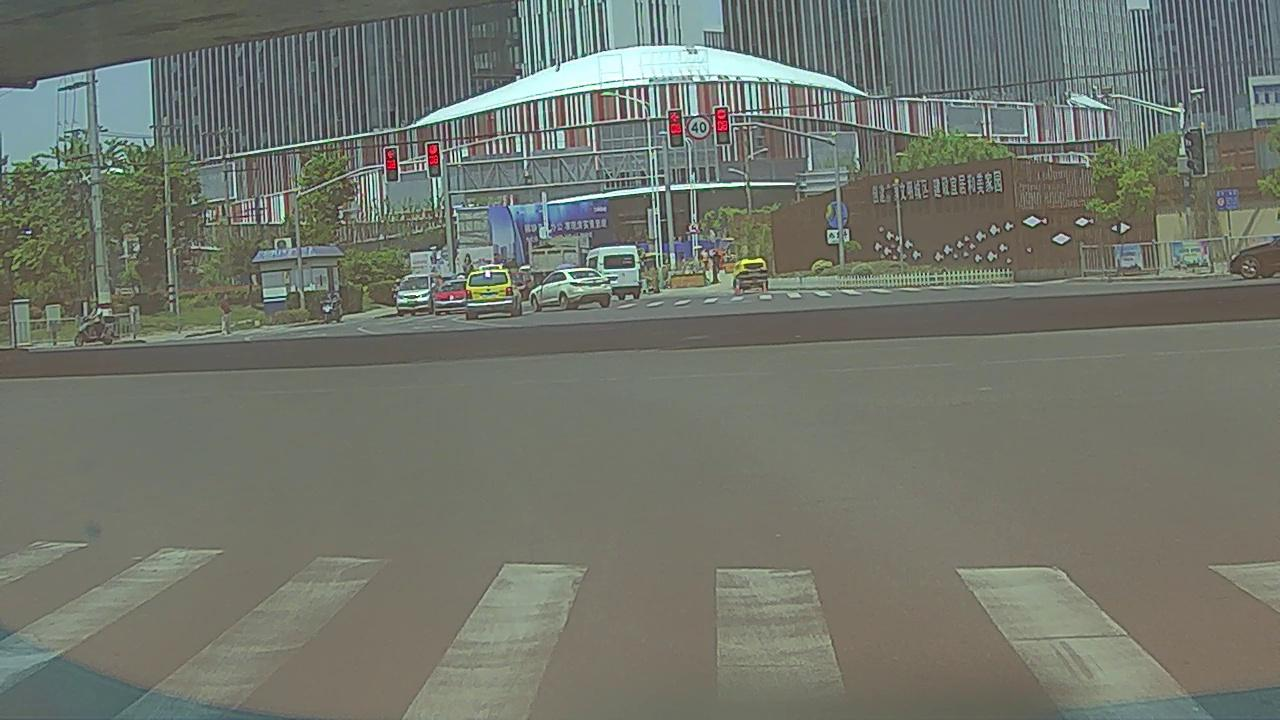traffic_light: (668, 111, 684, 147), (716, 109, 731, 145), (385, 148, 398, 183), (427, 144, 441, 176)
